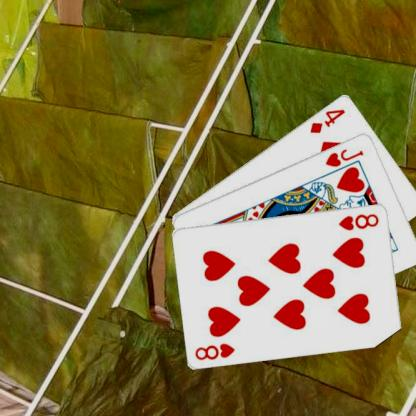4D: (307, 106, 347, 134)
8H: (336, 210, 380, 232), (192, 340, 236, 361)
JH: (322, 146, 365, 168)
